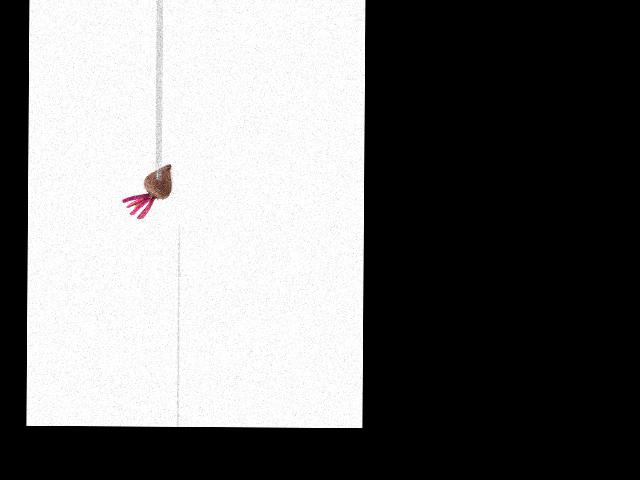beet: (122, 163, 171, 219)
